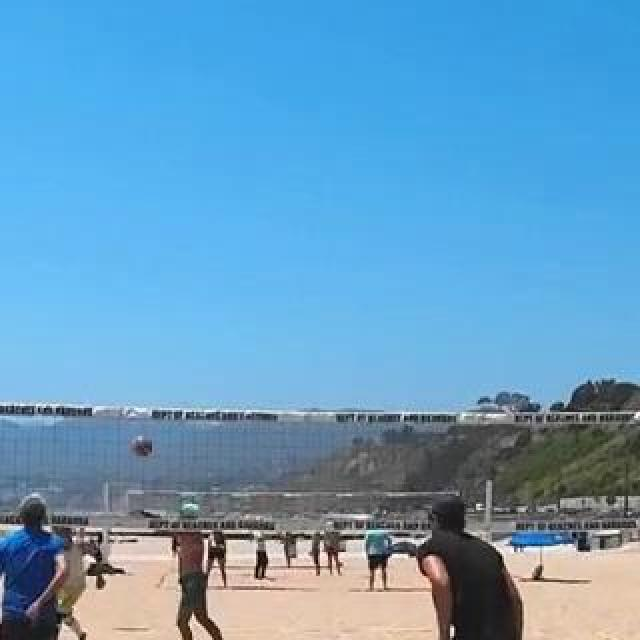volleyball: (130, 434, 154, 460)
